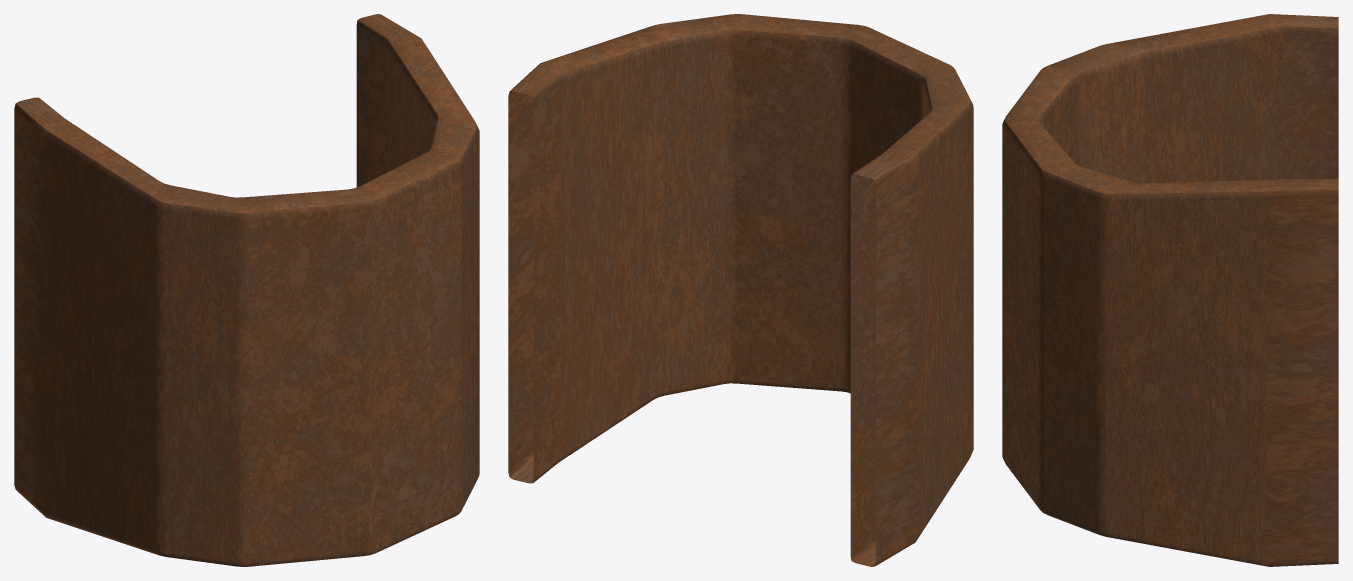
File: PipeWrap.fbx
3 renders of one model, left to right at view 1: azimuth 30°, elevation 25°; view 2: azimuth 150°, elevation 25°; view 3: azimuth 270°, elevation 25°, orthographic. The views are drawn at different scales.
Visible parts, largest first — view 1: PipeWrap; view 2: PipeWrap; view 3: PipeWrap.
Part boxes in pixels (x1,y1,x2,y2): PipeWrap: [14, 14, 479, 566]; PipeWrap: [508, 14, 973, 566]; PipeWrap: [1002, 14, 1338, 566].
Bounding box in the file's own units: 31.1 × 30.71 × 24.64.
